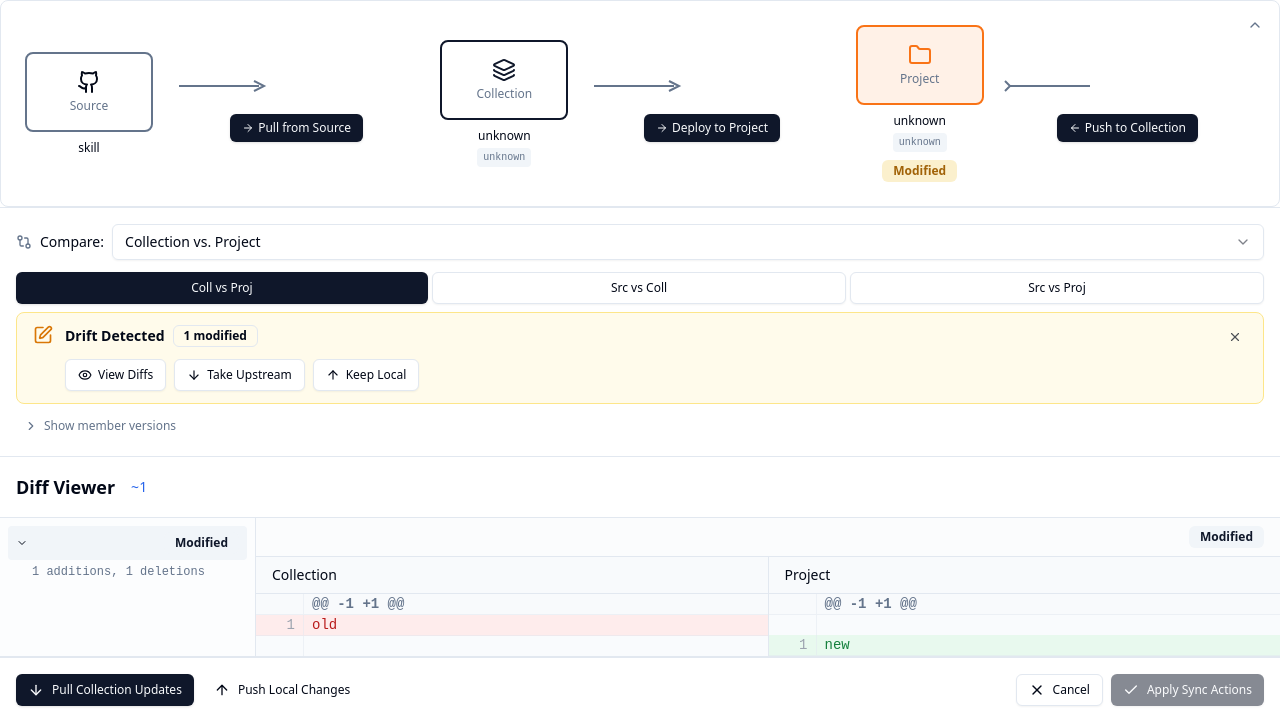
SyncStatusTab - Confirmation Dialogs › push confirmation dialog › shows confirmation dialog when "Push to Collection" is clicked
This screenshot has width=1280, height=720.
// Click "Push to Collection" button in the banner
Click the button "Push to Collection". click: (1127, 128)
box: x1=1057 y1=114 x2=1198 y2=142
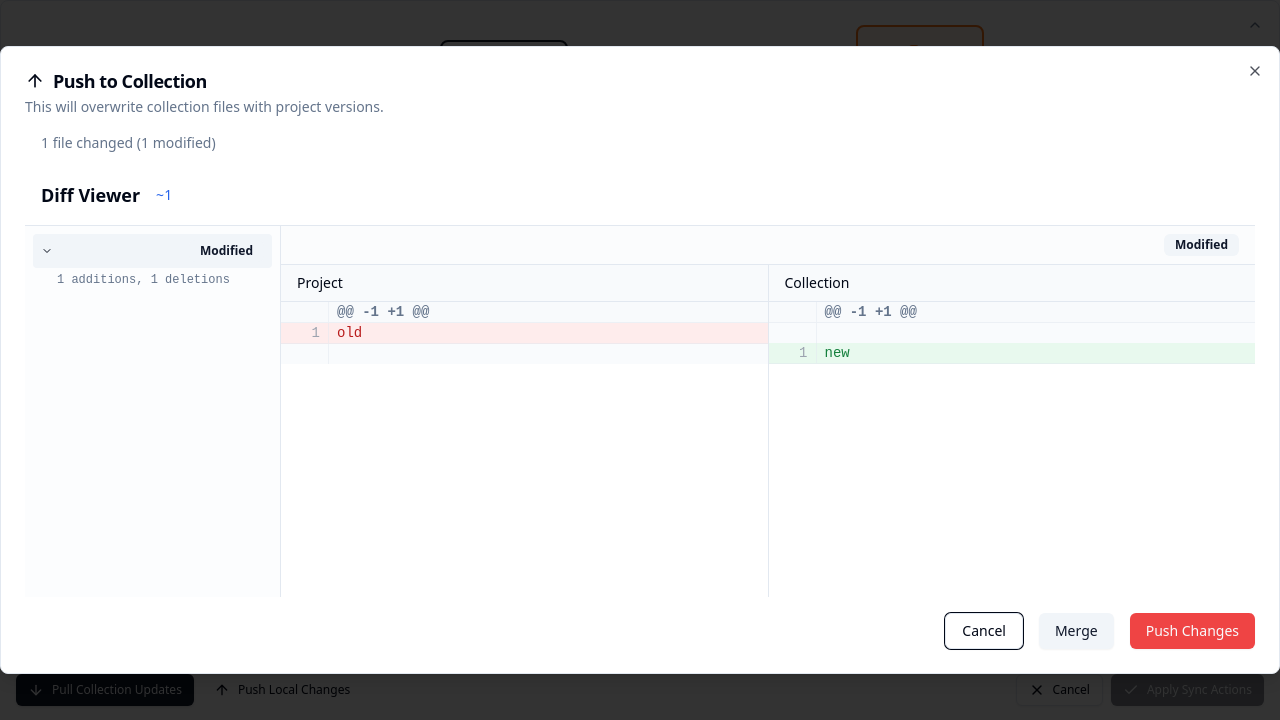
expect the dialog is shown: met
expect the heading "Push to Collection" is shown: met, box x1=53 y1=72 x2=207 y2=90
expect the button "Push Changes" is shown: met, box x1=1130 y1=613 x2=1255 y2=649
